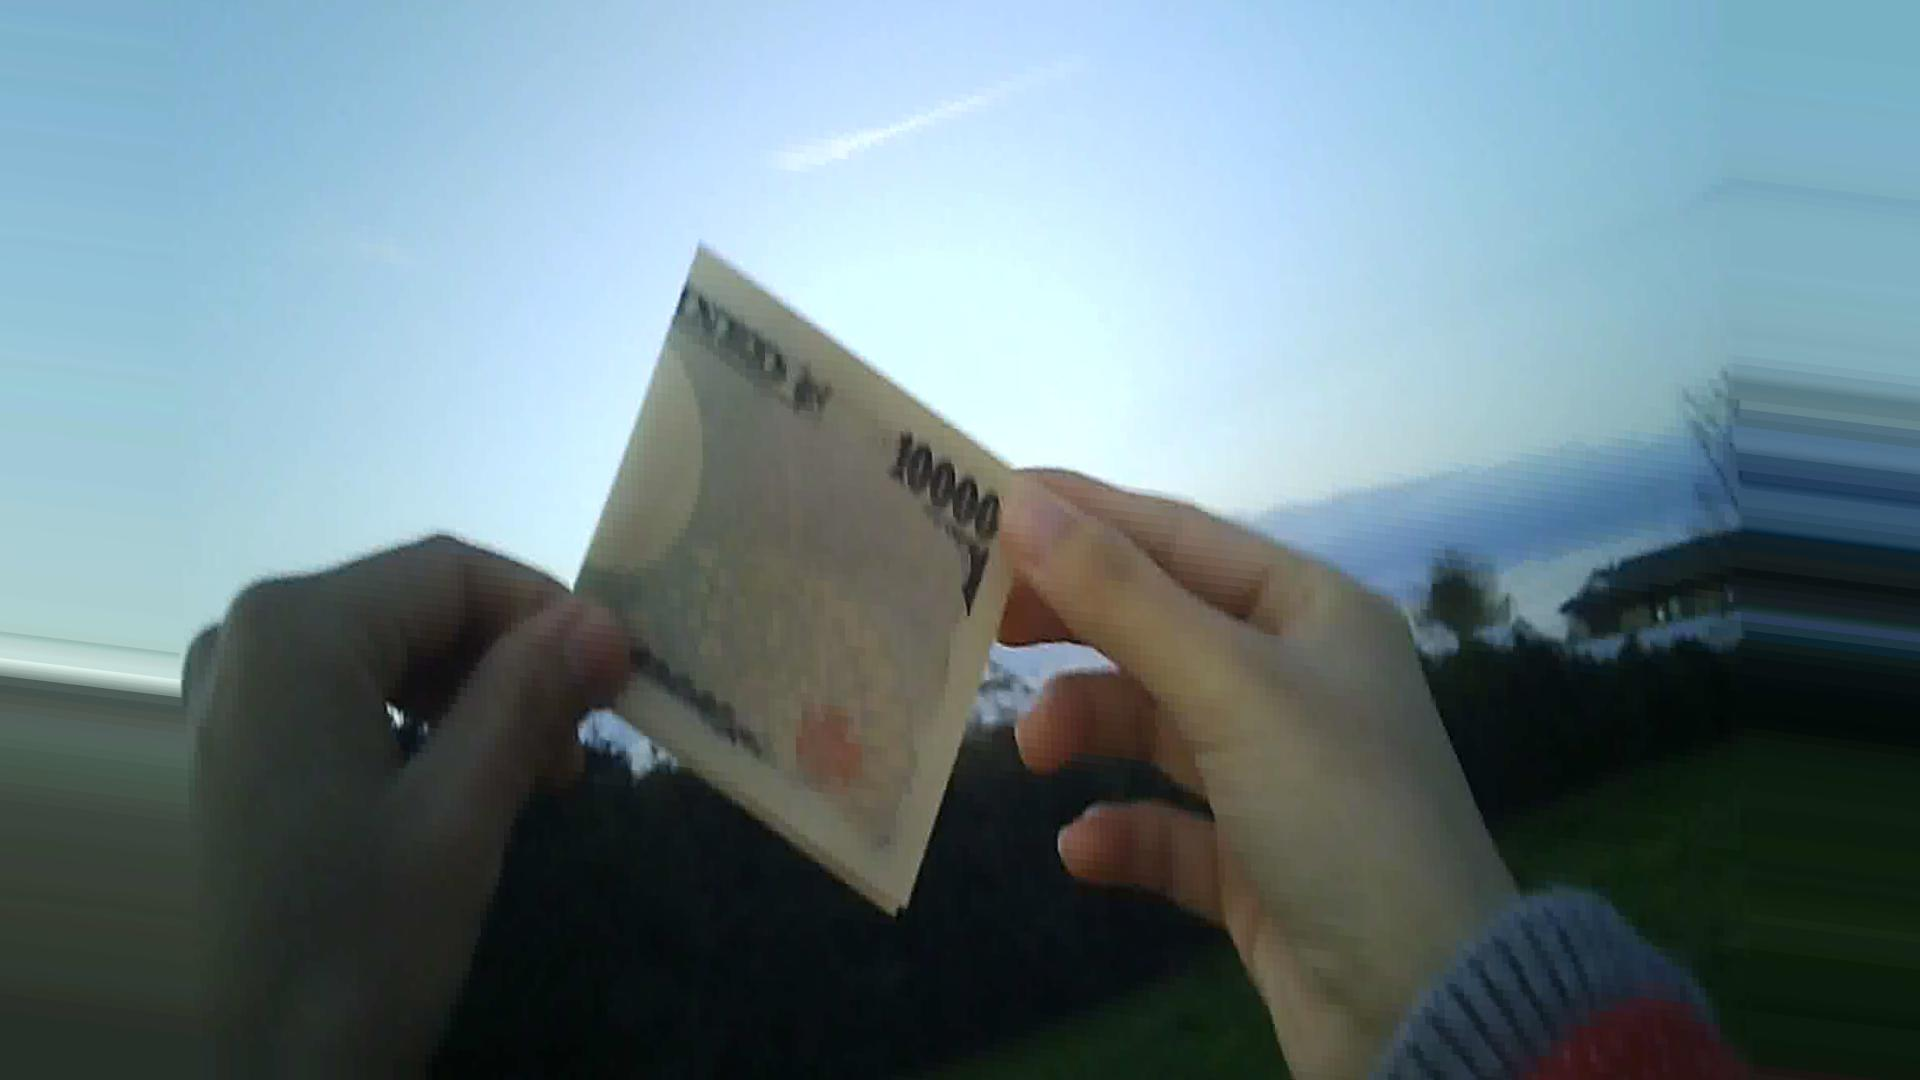10,000 Yen: (564, 239, 1035, 923)
